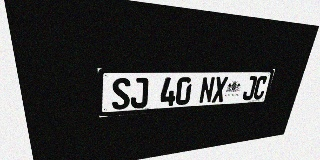0: (175, 77, 192, 105)
4: (160, 77, 177, 106)
C: (252, 76, 268, 100)
J: (130, 77, 149, 109), (242, 76, 258, 100)
N: (198, 77, 215, 104)
S: (112, 78, 130, 110)
X: (211, 76, 228, 103)
